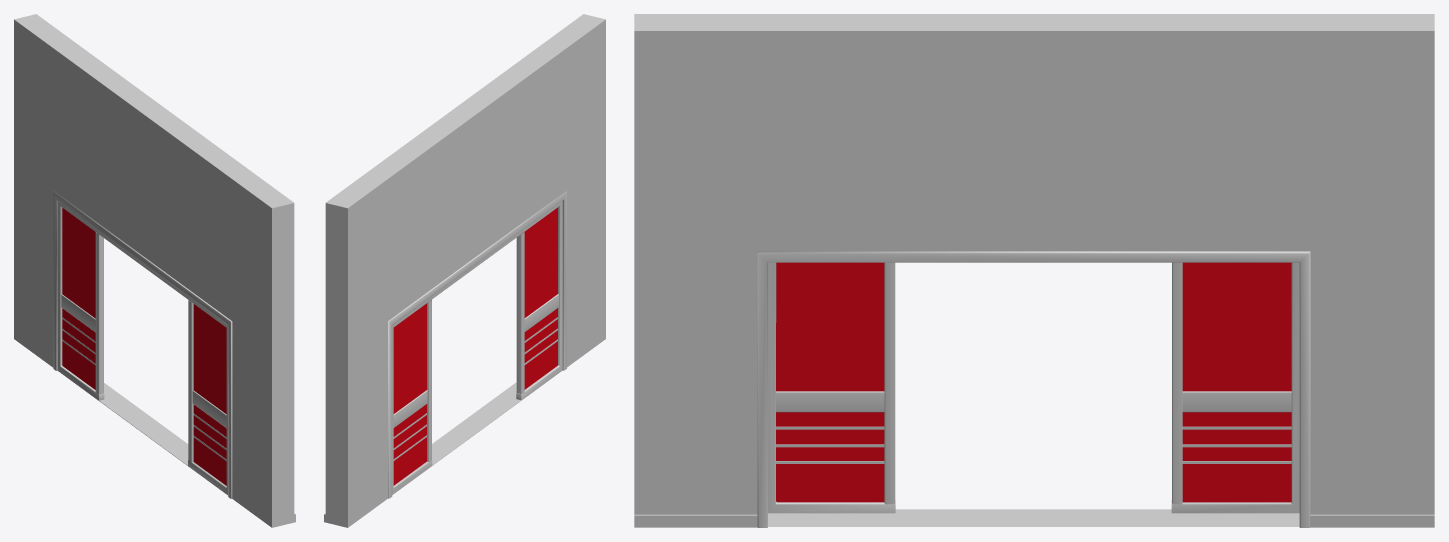
Rendered from Wall_5.FBX.
The picture shows the model from 3 angles, left to right: view 1: azimuth 30°, elevation 25°; view 2: azimuth 150°, elevation 25°; view 3: azimuth 270°, elevation 25°; orthographic projection. The views are drawn at different scales.
Visible parts, largest first — view 1: Wall_5; view 2: Wall_5; view 3: Wall_5.
Part boxes in pixels (x1,y1,x2,y2): Wall_5: (14,14,295,527); Wall_5: (324,14,605,527); Wall_5: (634,14,1434,527).
Size of the model in its own units: 34 by 410 by 600.
